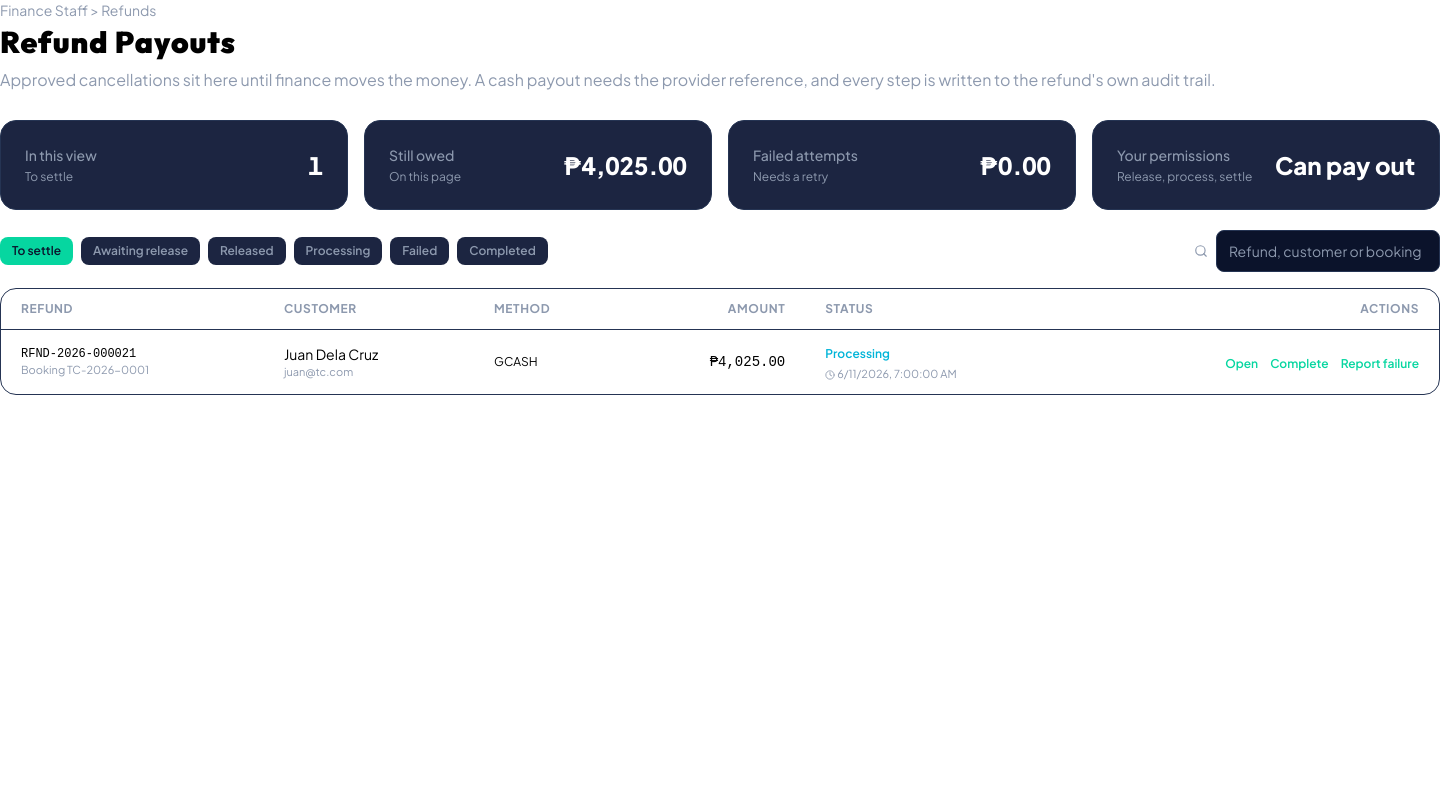
Test case: RefundQueuePage › insists on a reason before a failure can be reported
The image size is (1440, 810).
Click the button "Report failure" at (1380, 364), box 1341,356 -> 1419,372
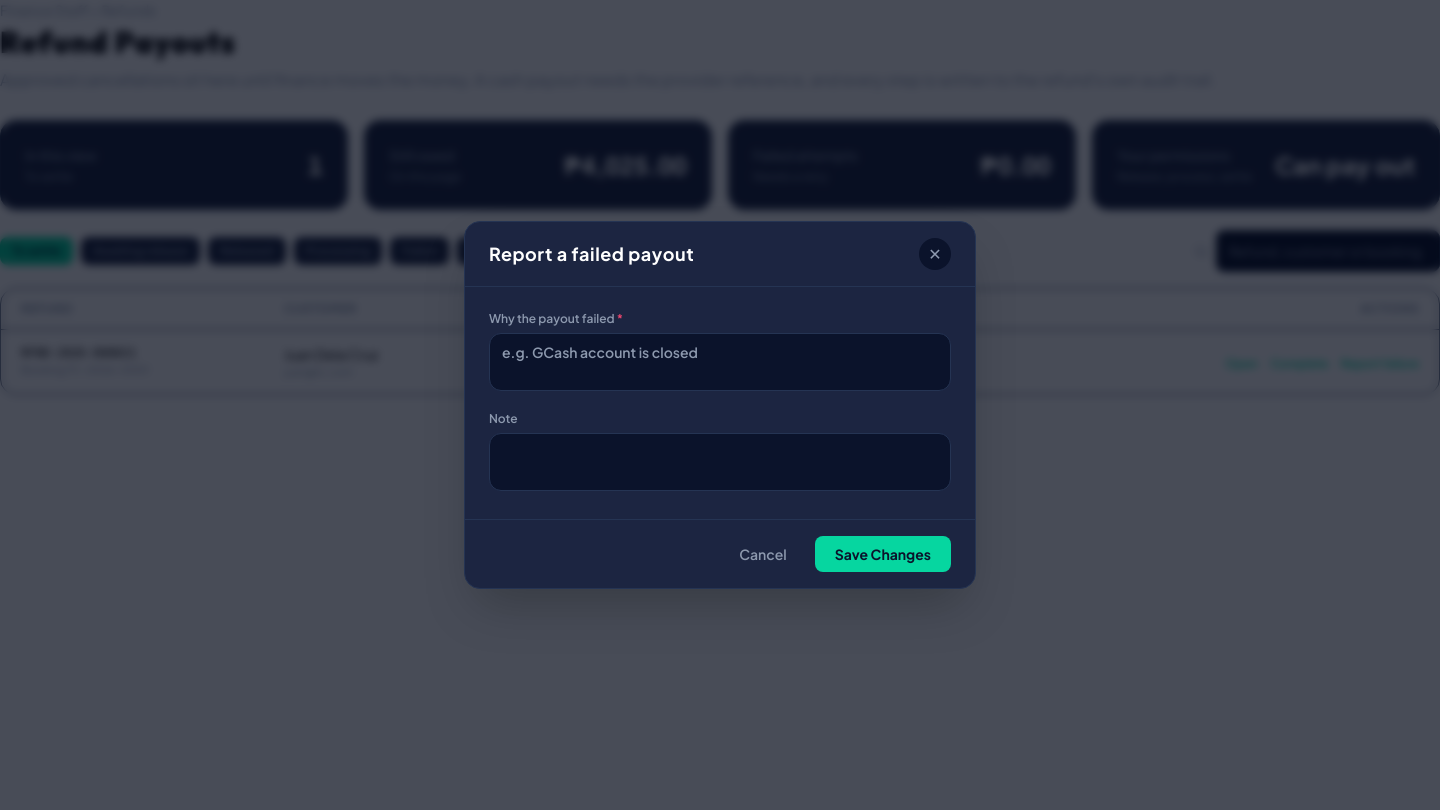
Click the button "Save Changes" at (883, 554), box 815,536 -> 951,572
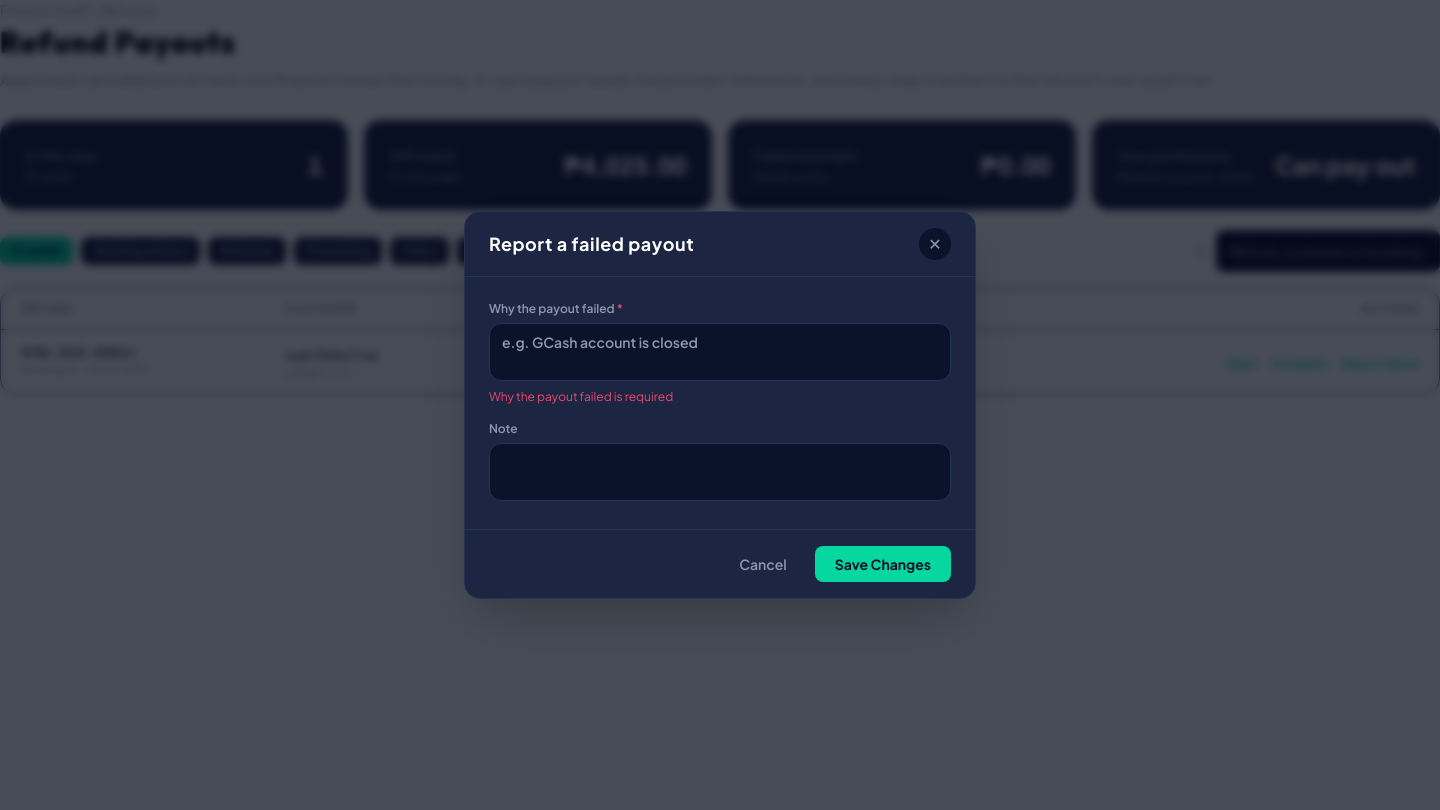
Check: the text "Why the payout failed is required" is shown, box 489,389 -> 673,404
